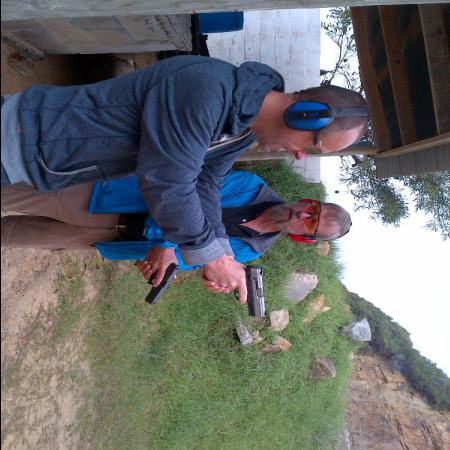Pistol: (228, 260, 269, 318), (146, 247, 178, 305)
